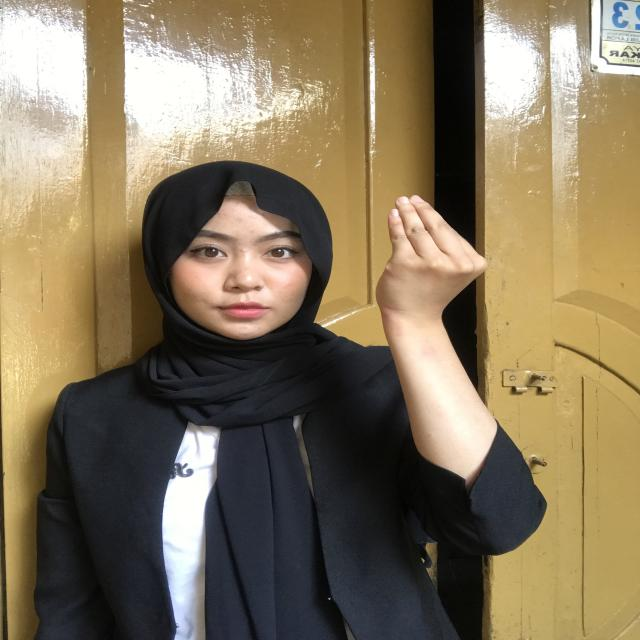kapan: (359, 185, 488, 377)
